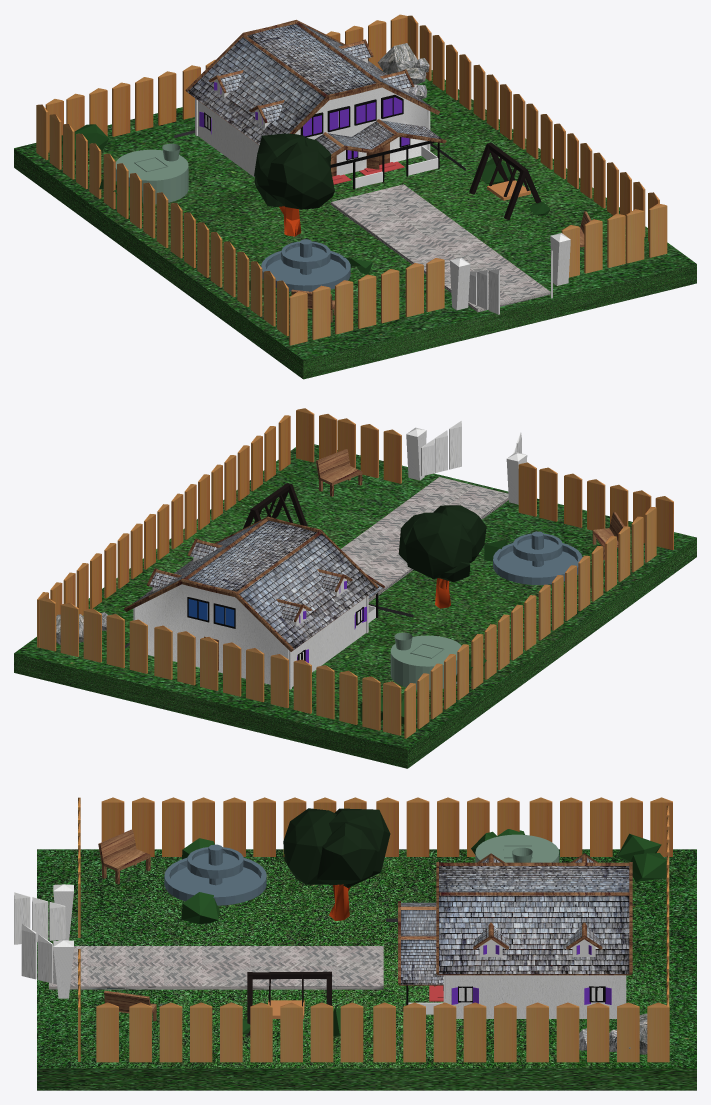
The model's file is 3D-Cottage.obj.
The picture shows the model from 3 angles, top to bottom: view 1: azimuth 30°, elevation 25°; view 2: azimuth 150°, elevation 25°; view 3: azimuth 270°, elevation 25°; orthographic projection. The views are drawn at different scales.
Visible parts, largest first — view 1: green_plane_Cube.027, Fence_Cube.245, Roof, Pavement_Cube, House_Street_environment_V01.098, branch_Icosphere.017, Fountain_Circle.002, Gate_Cube.002, Well_Circle.001, jhulunga.001_Cube.213, Windows-Glass_Street_environment_V01.129, roof2_wood_Street_environment_V01.107 (+5 smaller); view 2: green_plane_Cube.027, Fence_Cube.245, Roof, House_Street_environment_V01.098, Pavement_Cube, branch_Icosphere.017, Fountain_Circle.002, Gate_Cube.002, Well_Circle.001, Bench_Cube.021, Small_Roof_Street_environment_V01.2068, jhulunga.001_Cube.213 (+3 smaller); view 3: green_plane_Cube.027, Fence_Cube.245, Roof, Pavement_Cube, branch_Icosphere.017, House_Street_environment_V01.098, Gate_Cube.002, Fountain_Circle.002, roof2_wood_Street_environment_V01.107, Bench_Cube.021, Well_Circle.001, jhulunga.001_Cube.213 (+10 smaller).
Boxes of the visible parts, bbox=[...] form: green_plane_Cube.027: bbox=[14, 70, 696, 379]; Fence_Cube.245: bbox=[36, 14, 667, 345]; Roof: bbox=[185, 19, 439, 144]; Pavement_Cube: bbox=[331, 184, 550, 312]; House_Street_environment_V01.098: bbox=[195, 87, 440, 189]; branch_Icosphere.017: bbox=[254, 133, 334, 209]; Fountain_Circle.002: bbox=[261, 239, 350, 291]; Gate_Cube.002: bbox=[449, 233, 570, 314]; Well_Circle.001: bbox=[115, 143, 188, 204]; jhulunga.001_Cube.213: bbox=[469, 142, 541, 219]; Windows-Glass_Street_environment_V01.129: bbox=[199, 82, 409, 159]; roof2_wood_Street_environment_V01.107: bbox=[315, 120, 441, 154]; green_plane_Cube.027: bbox=[14, 444, 696, 768]; Fence_Cube.245: bbox=[37, 408, 673, 738]; Roof: bbox=[124, 516, 378, 651]; House_Street_environment_V01.098: bbox=[133, 584, 378, 689]; Pavement_Cube: bbox=[341, 477, 508, 602]; branch_Icosphere.017: bbox=[398, 505, 486, 581]; Fountain_Circle.002: bbox=[493, 531, 582, 584]; Gate_Cube.002: bbox=[406, 421, 527, 504]; Well_Circle.001: bbox=[390, 632, 461, 690]; Bench_Cube.021: bbox=[316, 449, 624, 560]; Small_Roof_Street_environment_V01.2068: bbox=[149, 542, 340, 621]; jhulunga.001_Cube.213: bbox=[243, 483, 307, 528]; green_plane_Cube.027: bbox=[37, 849, 696, 1090]; Fence_Cube.245: bbox=[78, 797, 672, 1062]; Roof: bbox=[436, 862, 632, 975]; Pavement_Cube: bbox=[49, 946, 383, 989]; branch_Icosphere.017: bbox=[283, 808, 390, 887]; House_Street_environment_V01.098: bbox=[406, 975, 626, 1018]; Gate_Cube.002: bbox=[14, 884, 73, 998]; Fountain_Circle.002: bbox=[164, 844, 266, 905]; roof2_wood_Street_environment_V01.107: bbox=[401, 902, 443, 984]; Bench_Cube.021: bbox=[98, 829, 156, 1021]; Well_Circle.001: bbox=[475, 834, 559, 862]; jhulunga.001_Cube.213: bbox=[247, 971, 331, 1035].
Bounding box in the file's own units: 1.29 × 0.3565 × 1.71.
